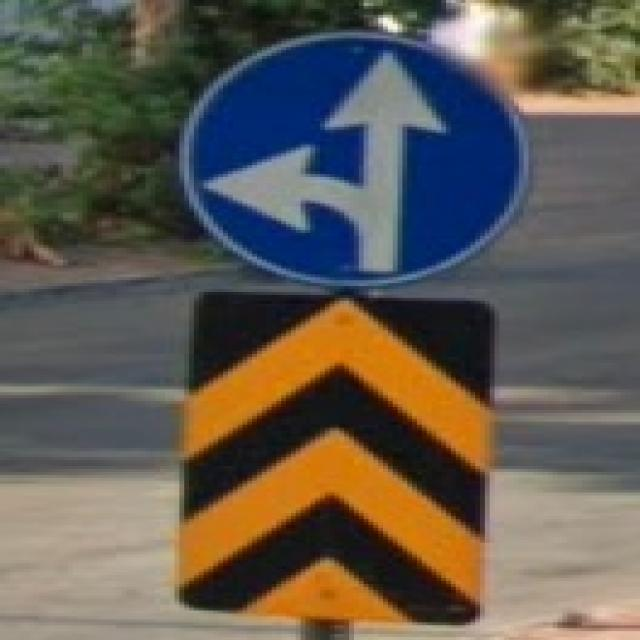Straight or Left: (185, 34, 520, 287)
